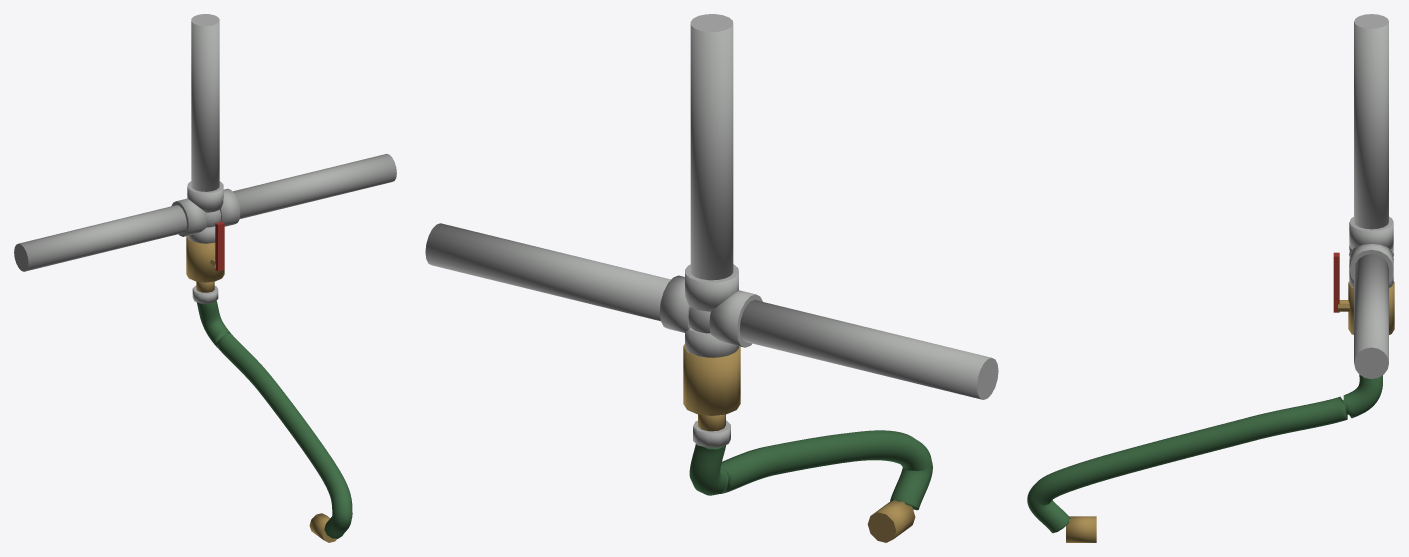
The model's file is barrel_fill_low_cross.obj.
3 views of the same model, side by side, from view 1: azimuth 30°, elevation 25°; view 2: azimuth 150°, elevation 25°; view 3: azimuth 270°, elevation 25° (orthographic). The views are drawn at different scales.
Visible parts, largest first — view 1: hose, pipe8, pipe4, pipe2, valve_body, elbow_socket4, elbow_socket8, elbow_socket2, valve_lever; view 2: pipe4, pipe8, pipe2, hose, valve_body, elbow_socket8, elbow_socket4, nozzle, elbow_socket2, elbow_socket1, hose_collar; view 3: hose, pipe4, pipe2, elbow_socket4, nozzle, elbow_socket2, valve_body.
Boxes of the visible parts, bbox=[...] form: hose: bbox=[196, 301, 352, 538]; pipe8: bbox=[14, 205, 186, 271]; pipe4: bbox=[191, 14, 219, 191]; pipe2: bbox=[233, 154, 396, 218]; valve_body: bbox=[186, 236, 224, 282]; elbow_socket4: bbox=[187, 181, 223, 212]; elbow_socket8: bbox=[171, 198, 207, 236]; elbow_socket2: bbox=[220, 188, 240, 226]; valve_lever: bbox=[215, 221, 224, 271]; pipe4: bbox=[690, 14, 733, 280]; pipe8: bbox=[739, 300, 998, 399]; pipe2: bbox=[425, 223, 670, 321]; hose: bbox=[689, 430, 932, 510]; valve_body: bbox=[683, 344, 740, 415]; elbow_socket8: bbox=[709, 290, 762, 347]; elbow_socket4: bbox=[685, 264, 738, 311]; nozzle: bbox=[867, 500, 915, 542]; elbow_socket2: bbox=[659, 275, 690, 332]; elbow_socket1: bbox=[685, 328, 738, 357]; hose_collar: bbox=[693, 420, 730, 447]; hose: bbox=[1027, 375, 1382, 533]; pipe4: bbox=[1354, 14, 1388, 229]; pipe2: bbox=[1354, 254, 1388, 378]; elbow_socket4: bbox=[1349, 216, 1393, 249]; nozzle: bbox=[1066, 516, 1096, 542]; elbow_socket2: bbox=[1349, 244, 1393, 280]; valve_body: bbox=[1348, 281, 1394, 334].
Size of the model in its own units: 1 by 1.11 by 0.7142.
Materials: 4 (4 with a texture image).
